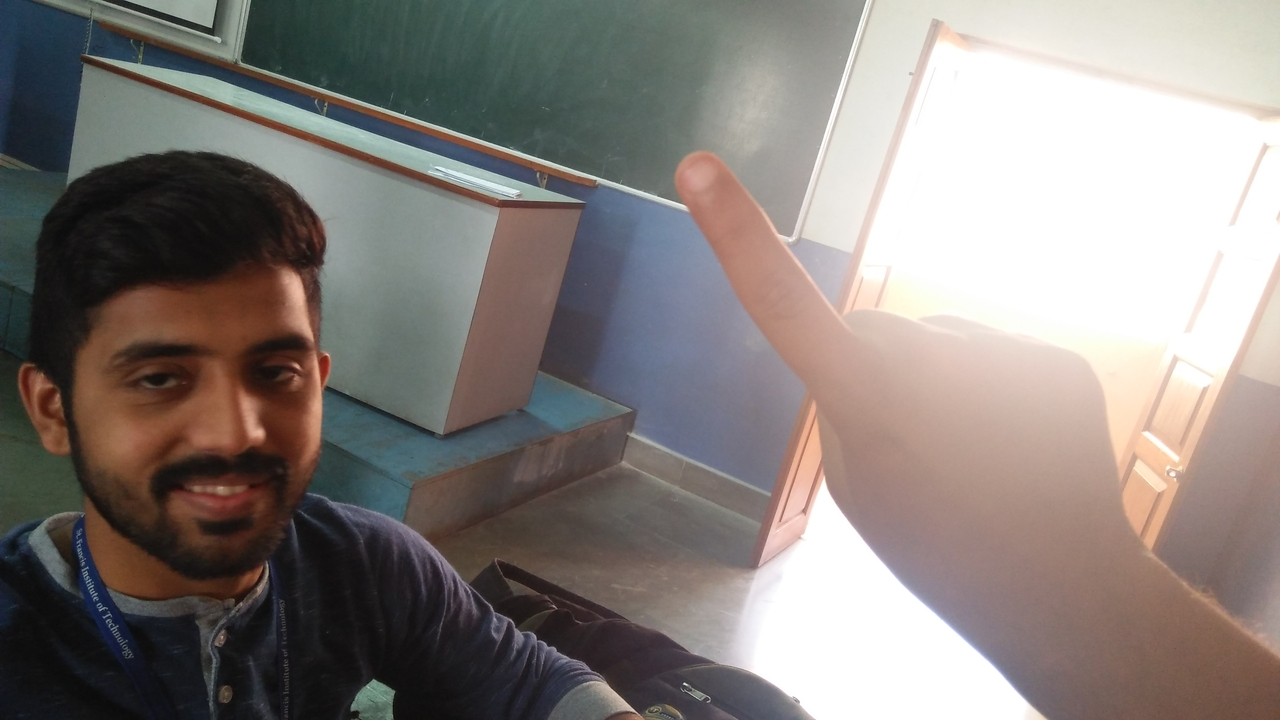fingertip: (670, 148, 738, 198)
